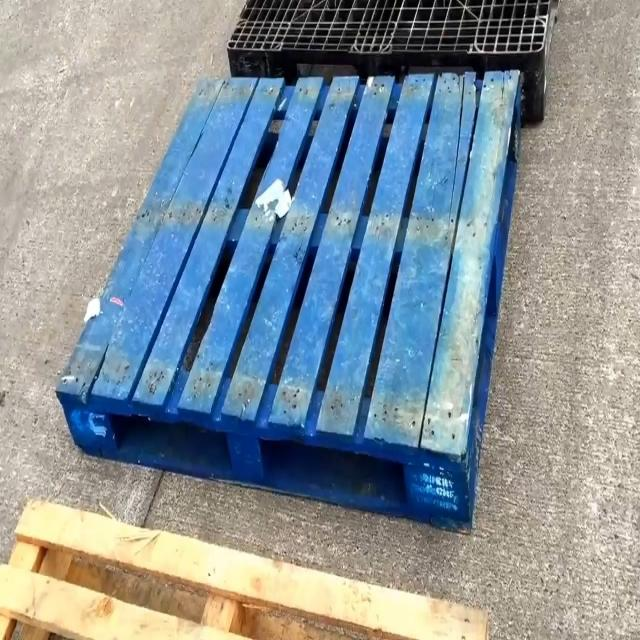Palette: (52, 74, 521, 541), (0, 495, 497, 640), (217, 0, 563, 127)
